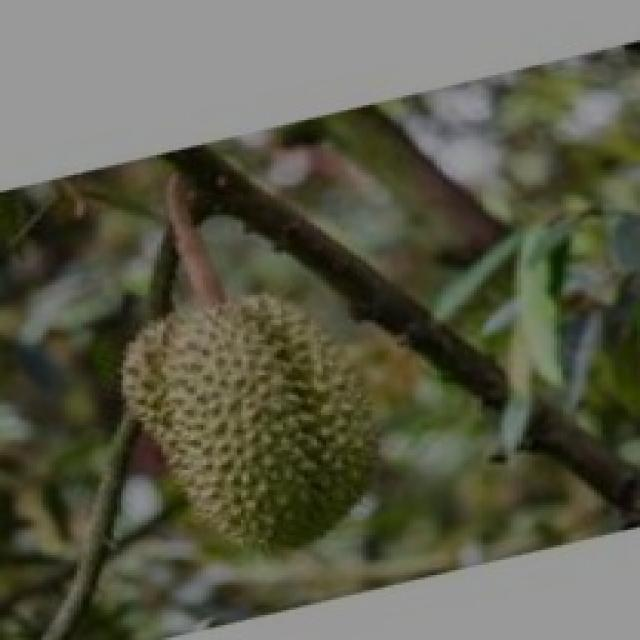fruit: (86, 247, 428, 585)
